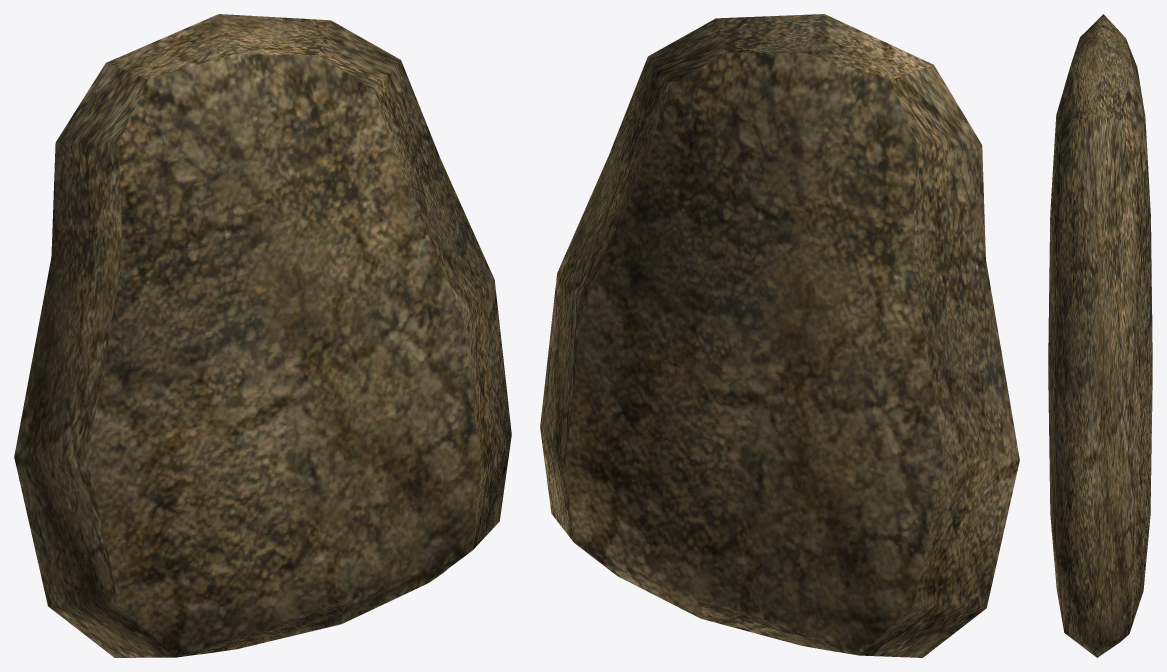
The model's file is INST_SM_LM_DOORS_LM_OBJECTS0111.fbx.
The picture shows the model from 3 angles, left to right: view 1: azimuth 30°, elevation 25°; view 2: azimuth 150°, elevation 25°; view 3: azimuth 270°, elevation 25°; orthographic projection. The views are drawn at different scales.
Parts seen in each view (by area): view 1: INST_SM_LM_DOORS_LM_OBJECTS0111; view 2: INST_SM_LM_DOORS_LM_OBJECTS0111; view 3: INST_SM_LM_DOORS_LM_OBJECTS0111.
Boxes of the visible parts, x1,y1,x2,y2 form: INST_SM_LM_DOORS_LM_OBJECTS0111: (14,14,511,657); INST_SM_LM_DOORS_LM_OBJECTS0111: (540,14,1019,657); INST_SM_LM_DOORS_LM_OBJECTS0111: (1048,14,1152,657).
Size of the model in its own units: 38516 by 47880 by 8313.
Materials: 1 (1 with a texture image).
